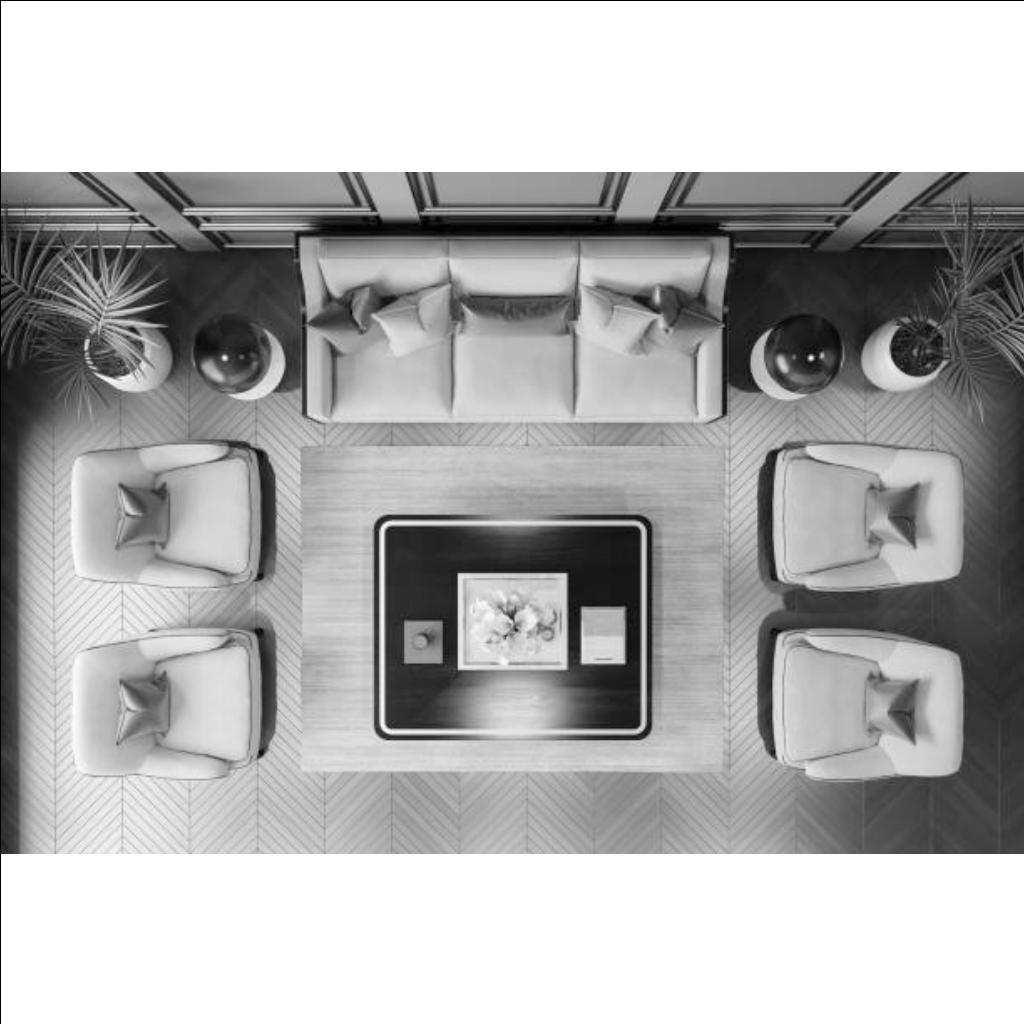chair: (68, 627, 262, 785), (766, 440, 964, 594), (770, 628, 964, 784), (70, 439, 260, 593)
coffee table: (371, 512, 649, 742)
floor lamp: (192, 314, 286, 402), (750, 314, 840, 400)
floor plant: (862, 316, 946, 392), (87, 316, 171, 392)
rug: (298, 444, 726, 776)
sofa: (300, 232, 730, 422)
